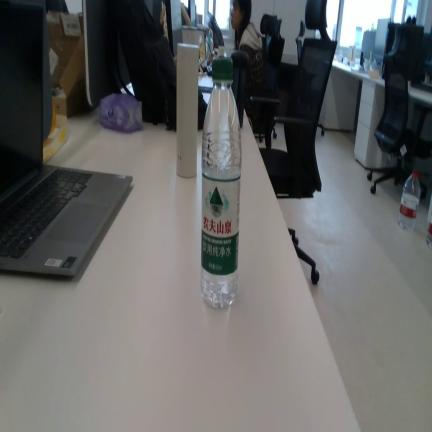bottle: (201, 57, 241, 308), (398, 170, 421, 230)
